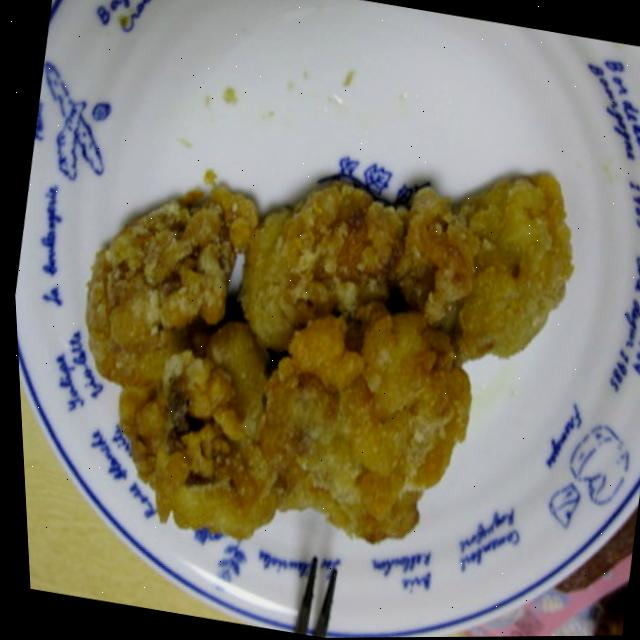鸡肉料理 含炸鸡: (6, 133, 640, 640)
